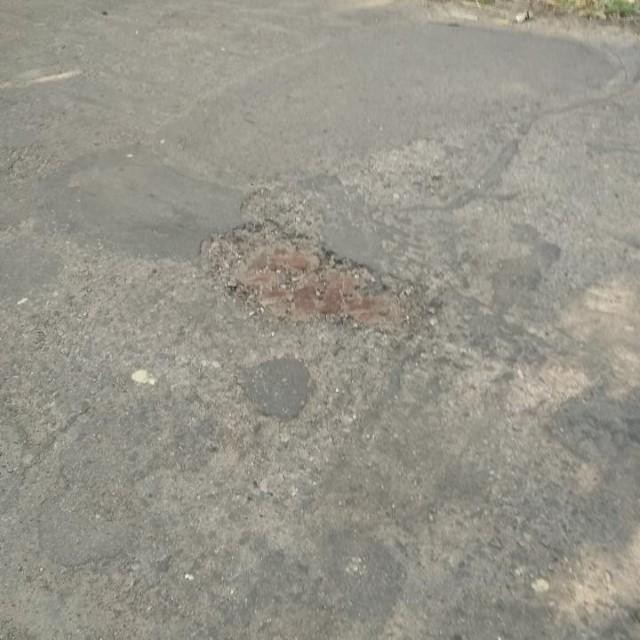Pothole: (196, 180, 446, 357)
